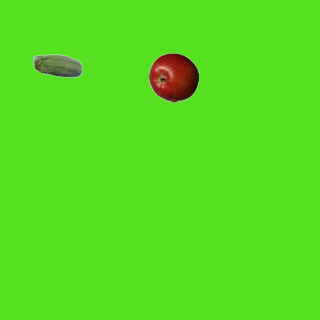Apple Braeburn: (148, 52, 198, 102)
Corn Husk: (32, 42, 82, 92)
